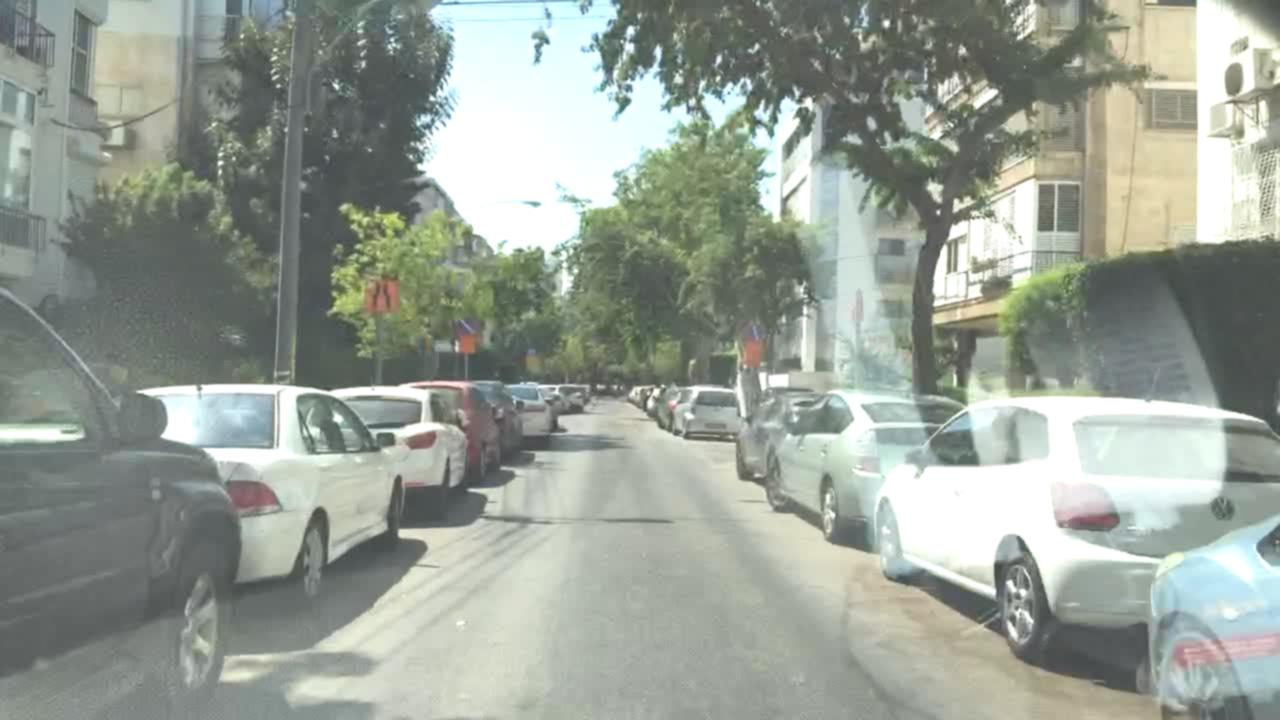Volkswagen: (1201, 495, 1241, 526)
